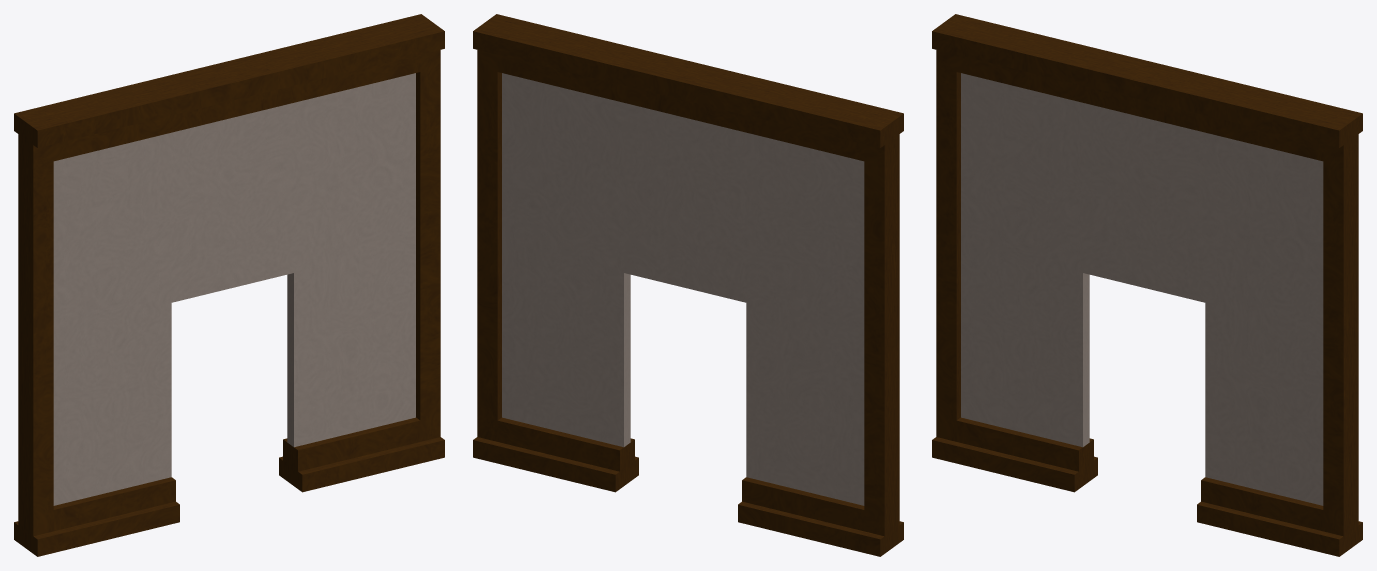
The model's file is WallWithDoorway.fbx.
3 views of the same model, side by side, from view 1: azimuth 30°, elevation 25°; view 2: azimuth 150°, elevation 25°; view 3: azimuth 330°, elevation 25° (orthographic).
Visible parts, largest first — view 1: WallWithDoorway; view 2: WallWithDoorway; view 3: WallWithDoorway.
Part boxes in pixels (box(x1,y1,x2,y2)): WallWithDoorway: box(14, 14, 444, 556); WallWithDoorway: box(473, 14, 903, 556); WallWithDoorway: box(932, 14, 1362, 556).
Size of the model in its own units: 500 by 500 by 50.
2 materials, 2 textured.
